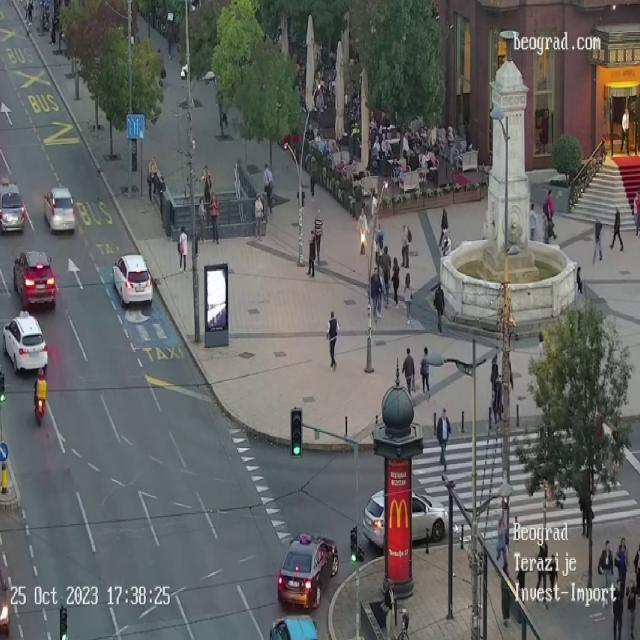car: (362, 488, 448, 549), (277, 532, 336, 602), (2, 310, 48, 374), (12, 249, 56, 310), (112, 253, 153, 308), (43, 186, 75, 234), (270, 609, 318, 640), (0, 181, 25, 233)
